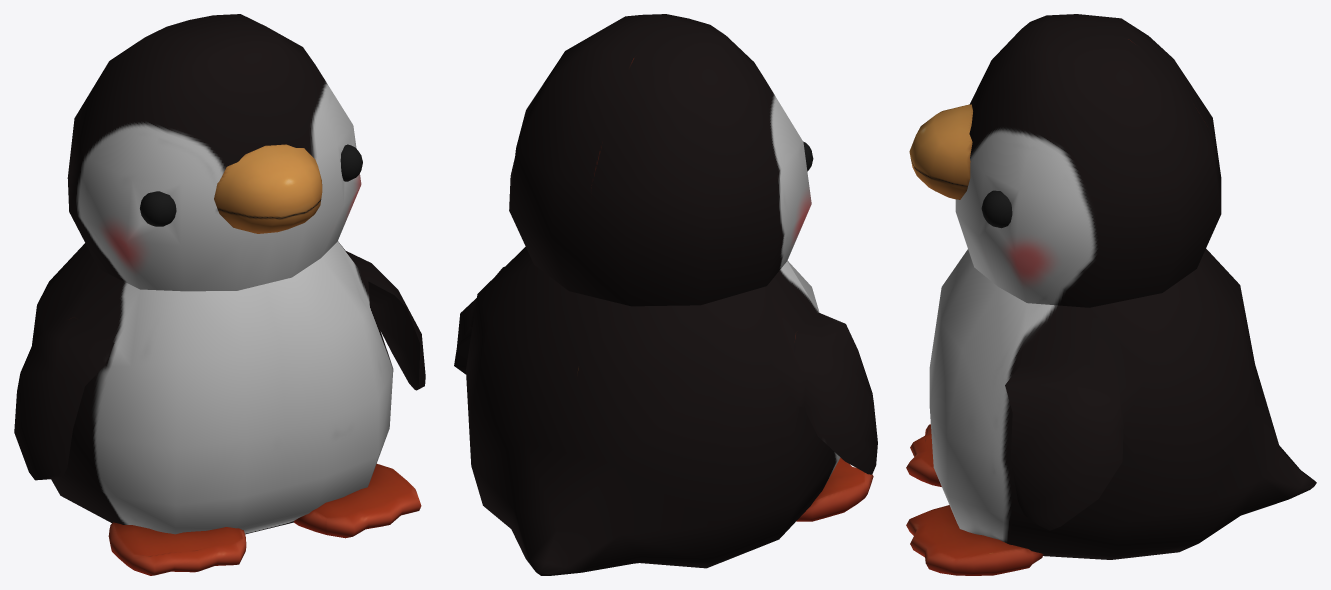
Rendered from penguin-plush-228fdd.glb.
3 views of the same model, side by side, from view 1: azimuth 30°, elevation 25°; view 2: azimuth 150°, elevation 25°; view 3: azimuth 270°, elevation 25° (orthographic). The views are drawn at different scales.
Visible parts, largest first — view 1: PropMesh; view 2: PropMesh; view 3: PropMesh.
Boxes of the visible parts, x1=… form: PropMesh: x1=14, y1=14, x2=425, y2=575; PropMesh: x1=454, y1=14, x2=877, y2=575; PropMesh: x1=906, y1=14, x2=1316, y2=575.
Bounding box in the file's own units: 0.3024 × 0.35 × 0.27.
Materials: 1 (1 with a texture image).
